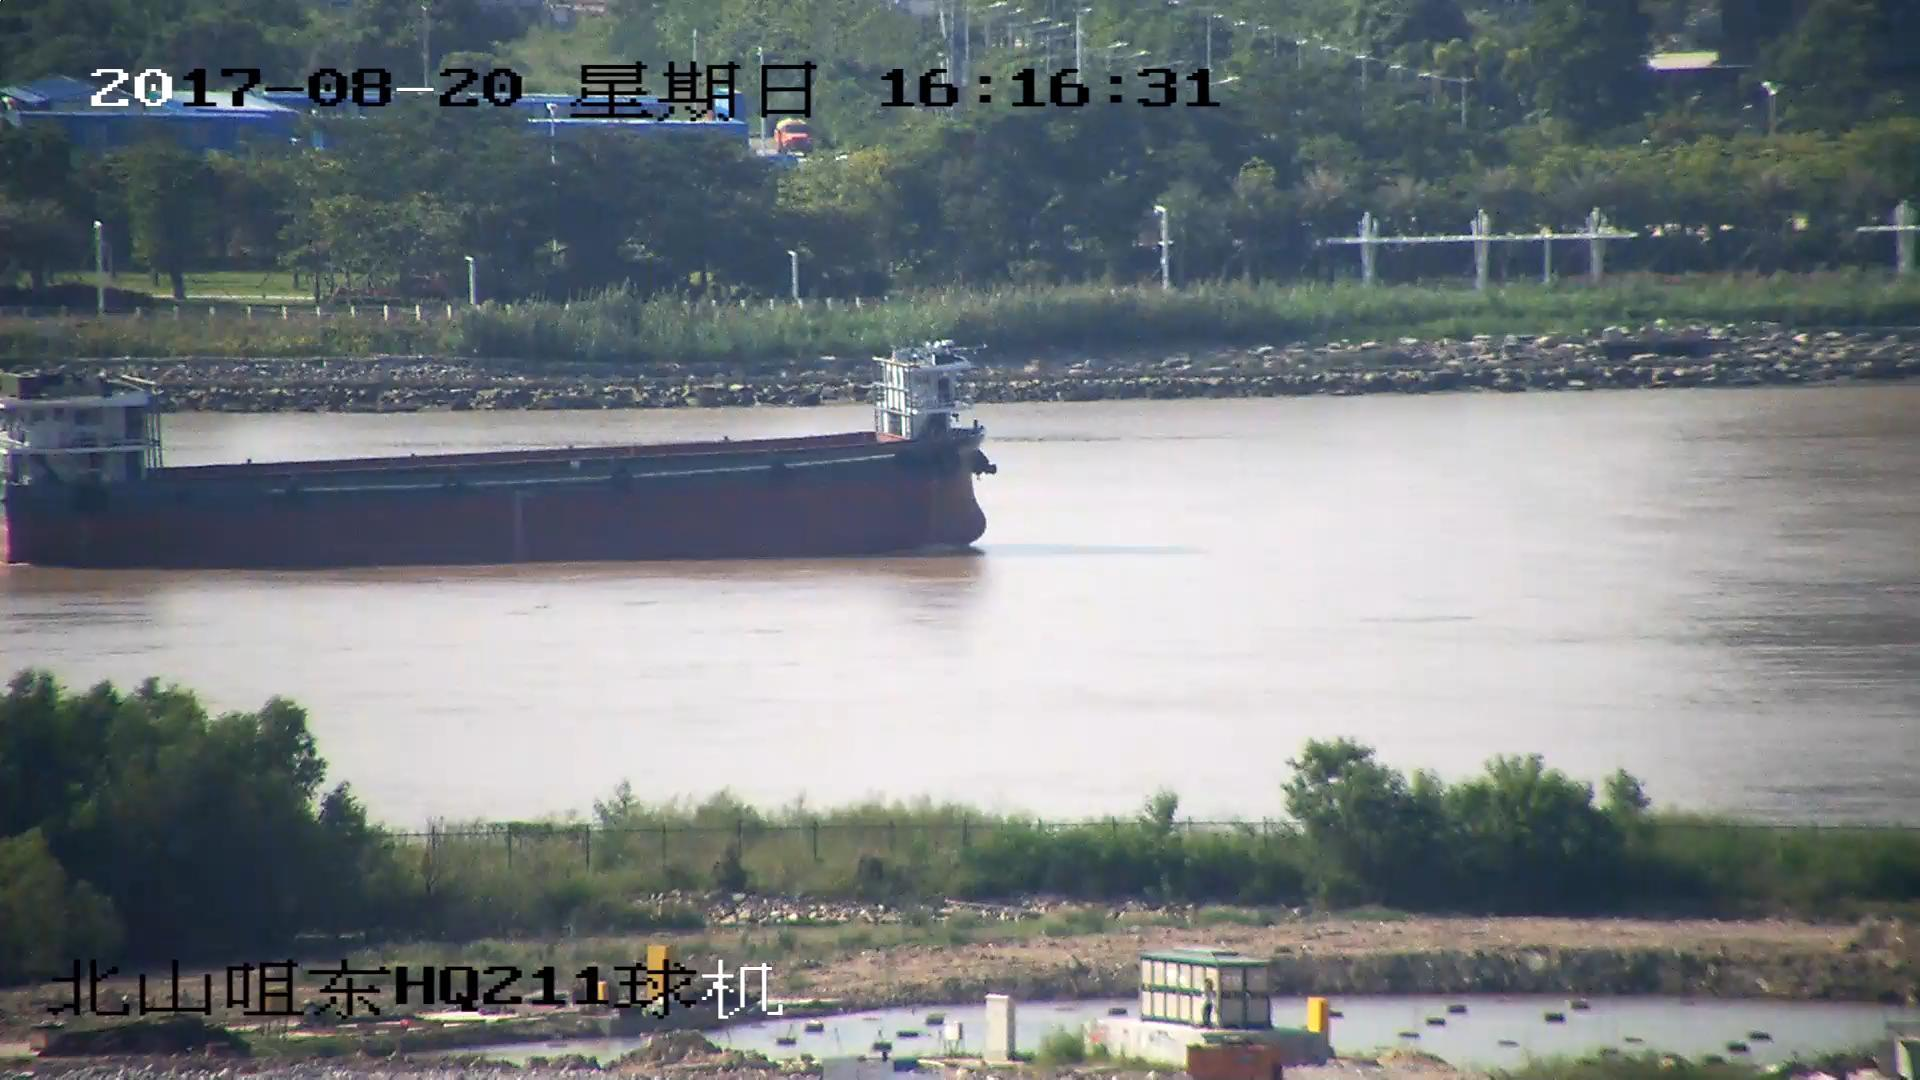Ship: (3, 352, 1000, 555)
